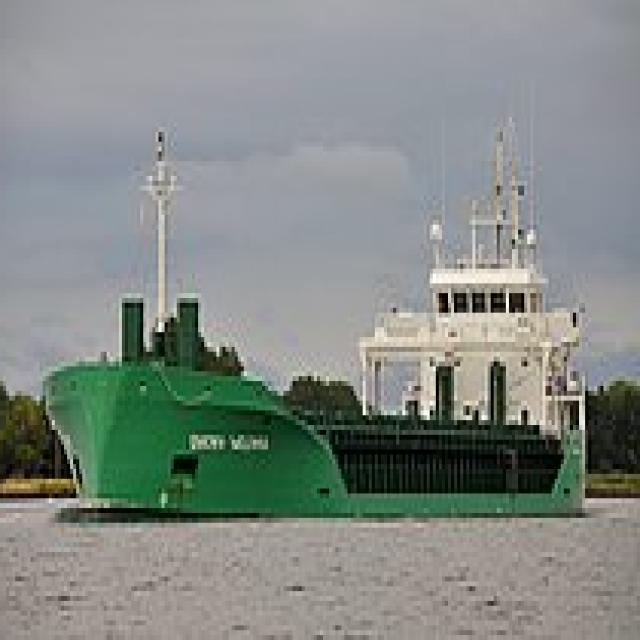Cargo: (43, 102, 594, 518)
